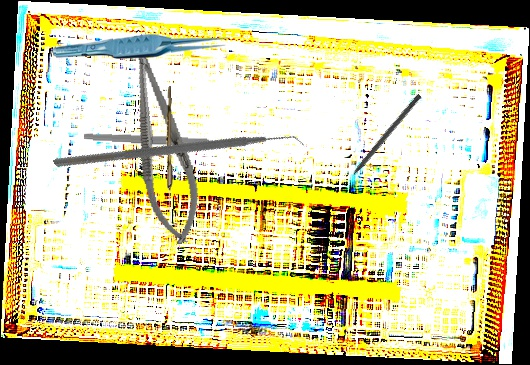Chopper: (52, 32, 310, 281)
Hook Surgical: (342, 92, 422, 187)
Needle Holder: (112, 29, 211, 249)
Scalpel Handle: (83, 132, 236, 149)
Surgical Spoon: (165, 86, 174, 224)
Tissue Forceps: (52, 32, 232, 62)
